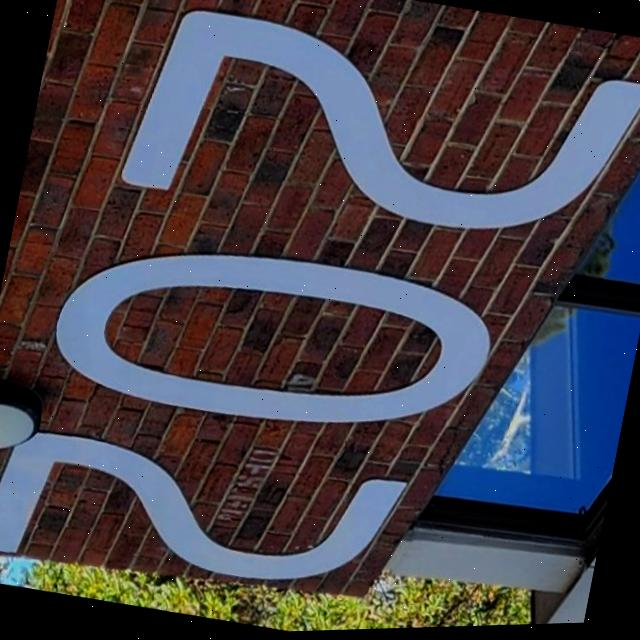character: (112, 0, 640, 291), (40, 205, 507, 476), (0, 400, 409, 630)
